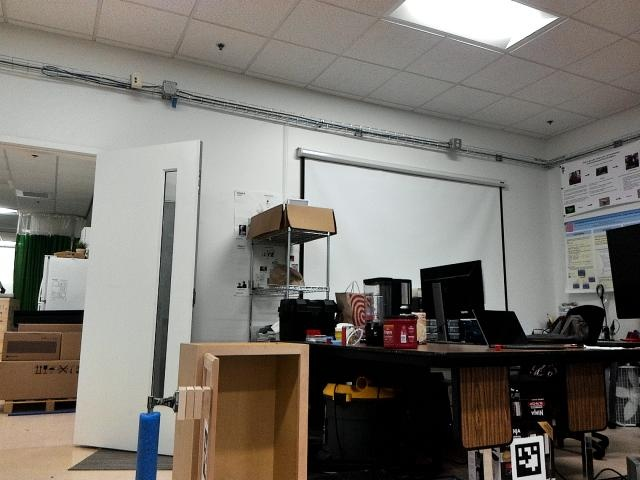noodle_handle: (130, 407, 166, 480)
